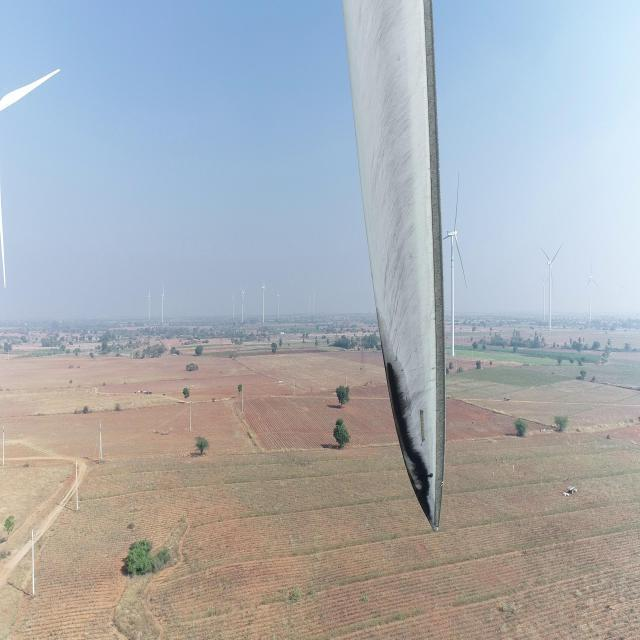Dirt: (342, 0, 442, 520)
Oil LEAKAGE: (382, 360, 438, 526)
Pin Hole: (425, 467, 436, 481)
